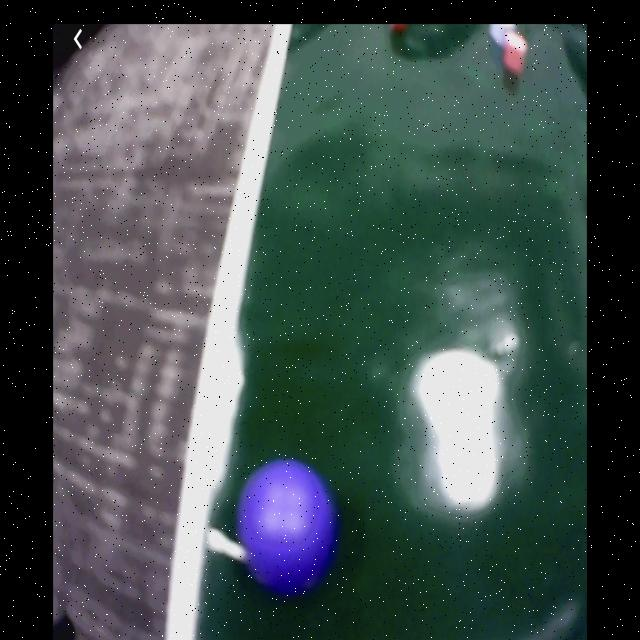ball: (240, 458, 337, 593)
